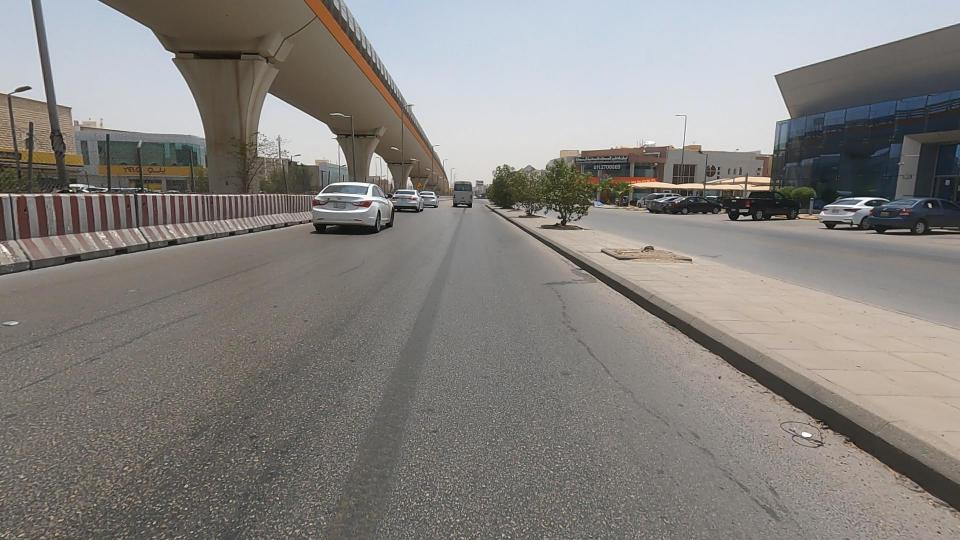CONSTRUCTION_ROAD: (0, 94, 247, 301), (93, 128, 369, 257)
